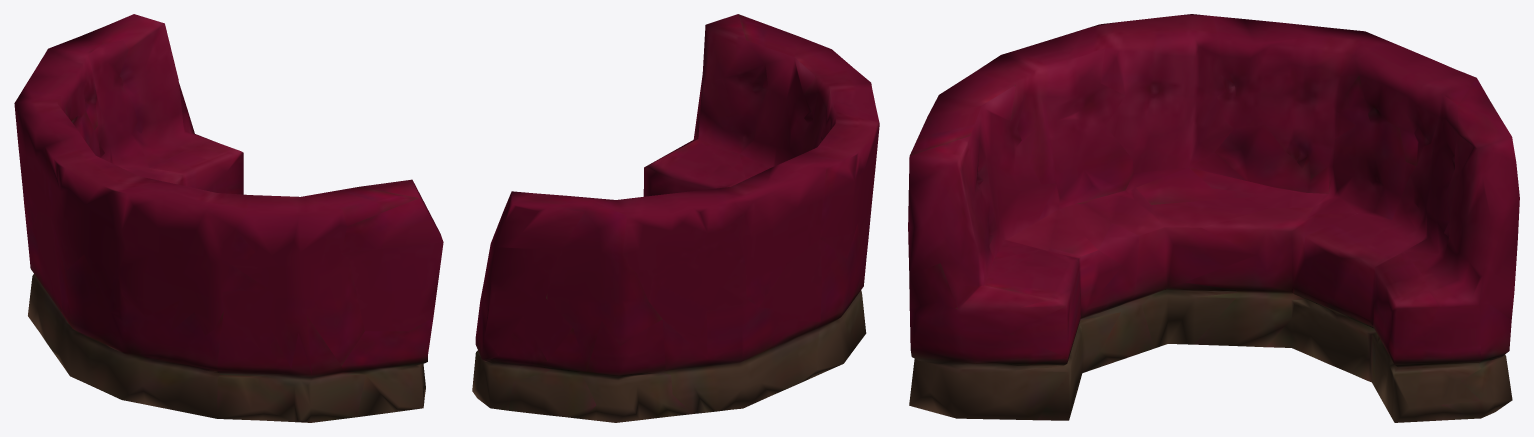
The model's file is sofa.glb.
3 renders of one model, left to right at view 1: azimuth 30°, elevation 25°; view 2: azimuth 150°, elevation 25°; view 3: azimuth 270°, elevation 25°, orthographic. The views are drawn at different scales.
Visible parts, largest first — view 1: tripo_node_5b2a2a17-5277-43fd-9060-e5dca3e4580b; view 2: tripo_node_5b2a2a17-5277-43fd-9060-e5dca3e4580b; view 3: tripo_node_5b2a2a17-5277-43fd-9060-e5dca3e4580b.
Boxes of the visible parts, <box> form: tripo_node_5b2a2a17-5277-43fd-9060-e5dca3e4580b: <box>14,14,443,422</box>; tripo_node_5b2a2a17-5277-43fd-9060-e5dca3e4580b: <box>472,14,879,422</box>; tripo_node_5b2a2a17-5277-43fd-9060-e5dca3e4580b: <box>908,14,1519,422</box>.
Bounding box in the file's own units: 0.6085 × 0.4545 × 1.
Materials: 1 (1 with a texture image).
